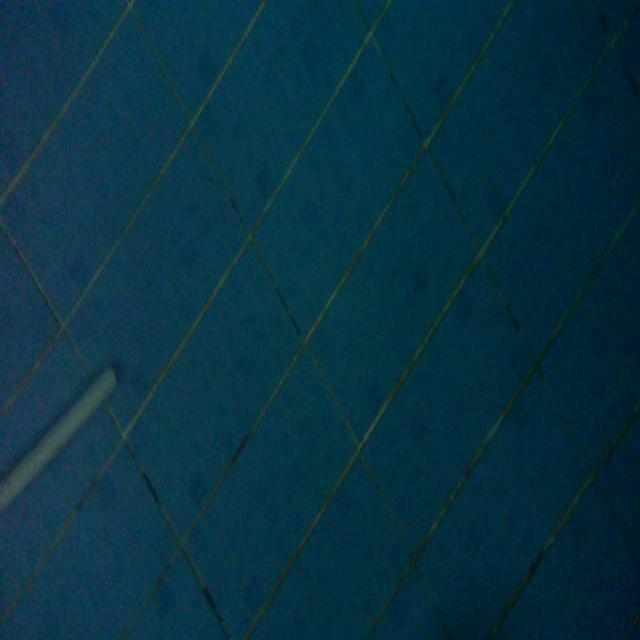Cube: (0, 359, 120, 517)
